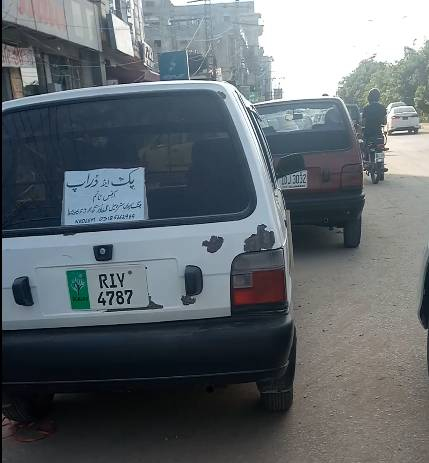number_plate: (66, 266, 155, 311), (279, 170, 309, 189)
